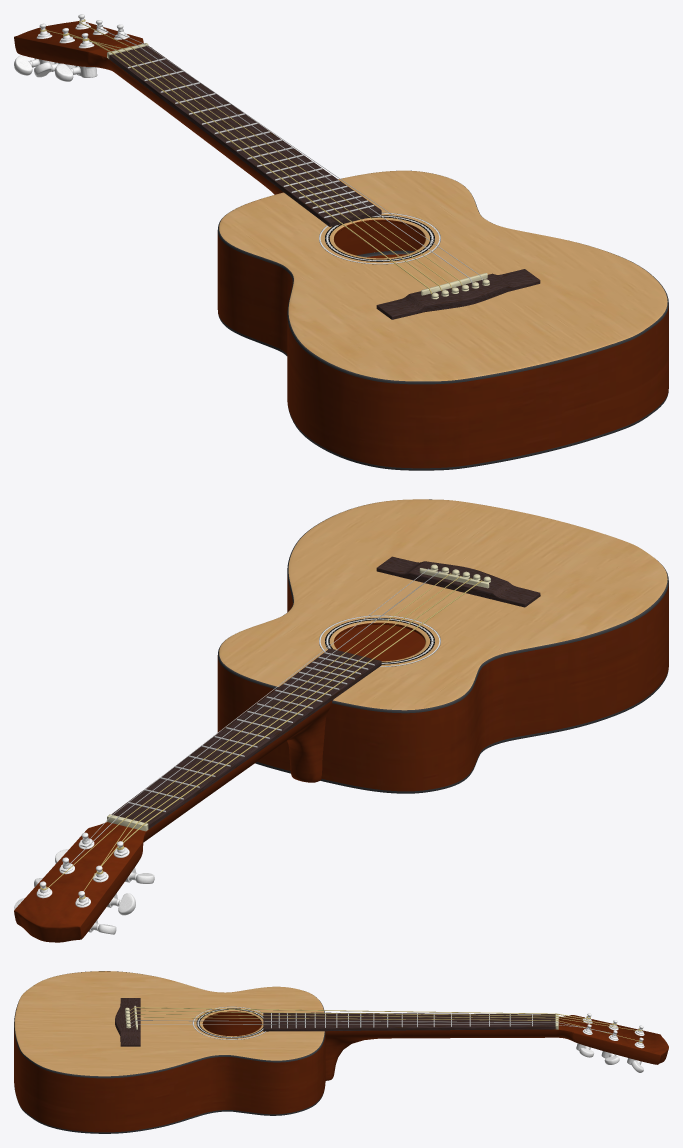
File: guitar.glb
3 renders of one model, top to bottom at view 1: azimuth 30°, elevation 25°; view 2: azimuth 150°, elevation 25°; view 3: azimuth 270°, elevation 25°, orthographic. The views are drawn at different scales.
Visible parts, largest first — view 1: Object_5, Object_4, Object_12, Object_11, Object_6, Object_9, Object_20, Object_24, Object_16, Object_18, Object_22, Object_14; view 2: Object_5, Object_4, Object_11, Object_12, Object_6, Object_9, Object_20, Object_7, Object_24, Object_16, Object_18, Object_22 (+1 smaller); view 3: Object_5, Object_4, Object_11, Object_12, Object_20, Object_6, Object_18, Object_9, Object_24, Object_22, Object_16.
Boxes of the visible parts, x1,y1,x2,y2 form: Object_5: (219,170,667,381); Object_4: (217,219,668,468); Object_12: (109,45,381,226); Object_11: (14,21,283,194); Object_6: (217,170,668,470); Object_9: (376,269,540,319); Object_20: (40,19,462,294); Object_24: (14,14,152,81); Object_16: (127,58,374,217); Object_18: (96,25,482,283); Object_22: (319,212,440,264); Object_14: (107,43,489,299); Object_5: (219,499,667,710); Object_4: (217,575,668,791); Object_11: (14,701,332,942); Object_12: (111,648,381,829); Object_6: (217,499,668,793); Object_9: (376,556,540,607); Object_20: (40,573,484,899); Object_7: (334,625,425,710); Object_24: (14,832,154,934); Object_16: (128,652,374,812); Object_18: (63,568,442,865); Object_22: (319,615,440,666); Object_5: (14,971,324,1076); Object_4: (14,1011,325,1132); Object_11: (325,1015,668,1080); Object_12: (263,1012,555,1031); Object_20: (129,1007,642,1042); Object_6: (14,971,325,1133); Object_18: (130,1020,616,1035); Object_9: (115,998,140,1046); Object_24: (576,1013,644,1072); Object_22: (192,1006,265,1039); Object_16: (271,1012,532,1028).
Size of the model in its own units: 1.91 by 0.5532 by 5.
13 materials, 10 textured.
